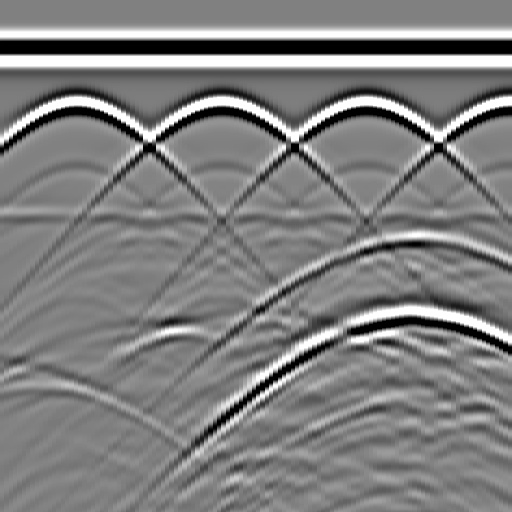grout_surface: (1, 202, 512, 232)
rebar: (55, 85, 95, 125), (199, 85, 239, 125), (344, 85, 384, 125), (488, 85, 512, 125)
rock_surface: (1, 313, 511, 386)
water_void: (381, 214, 441, 254)
